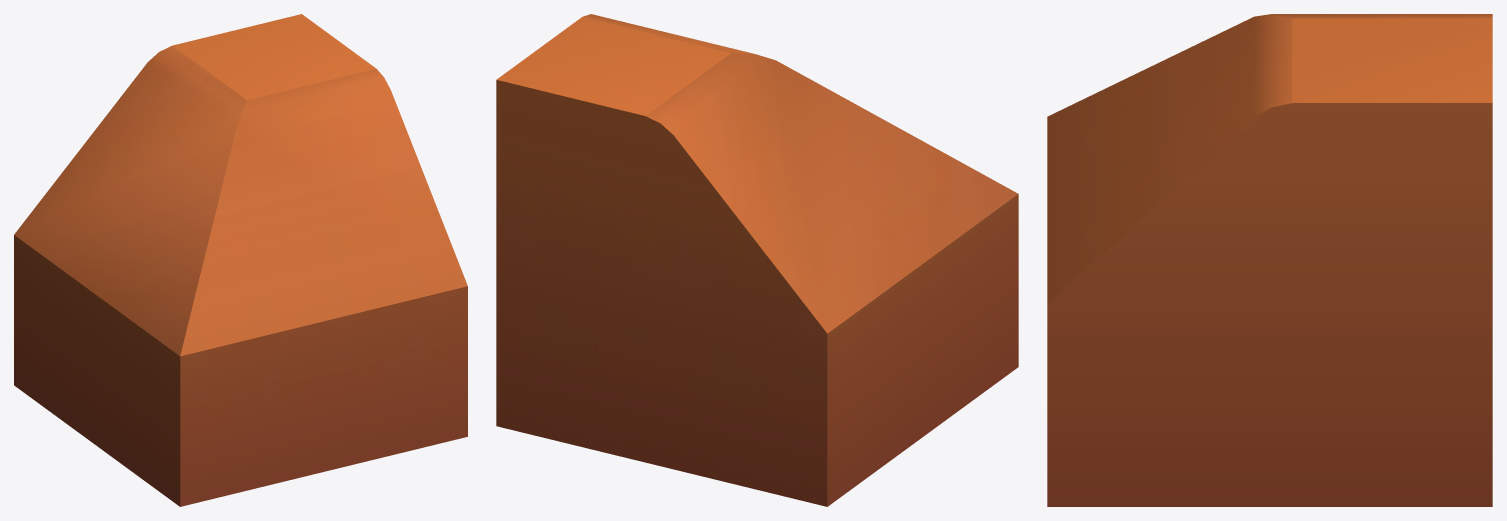
Rendered from terrain_slope_outer_corner.glb.
3 views of the same model, side by side, from view 1: azimuth 30°, elevation 25°; view 2: azimuth 150°, elevation 25°; view 3: azimuth 270°, elevation 25° (orthographic). The views are drawn at different scales.
Parts seen in each view (by area): view 1: terrain_slope_outer_corner_Cube.15119; view 2: terrain_slope_outer_corner_Cube.15119; view 3: terrain_slope_outer_corner_Cube.15119.
Boxes of the visible parts, x1,y1,x2,y2 form: terrain_slope_outer_corner_Cube.15119: (14,14,467,506); terrain_slope_outer_corner_Cube.15119: (496,14,1018,506); terrain_slope_outer_corner_Cube.15119: (1047,14,1492,506).
Bounding box in the file's own units: 2 × 2 × 2.
1 material, 1 textured.
